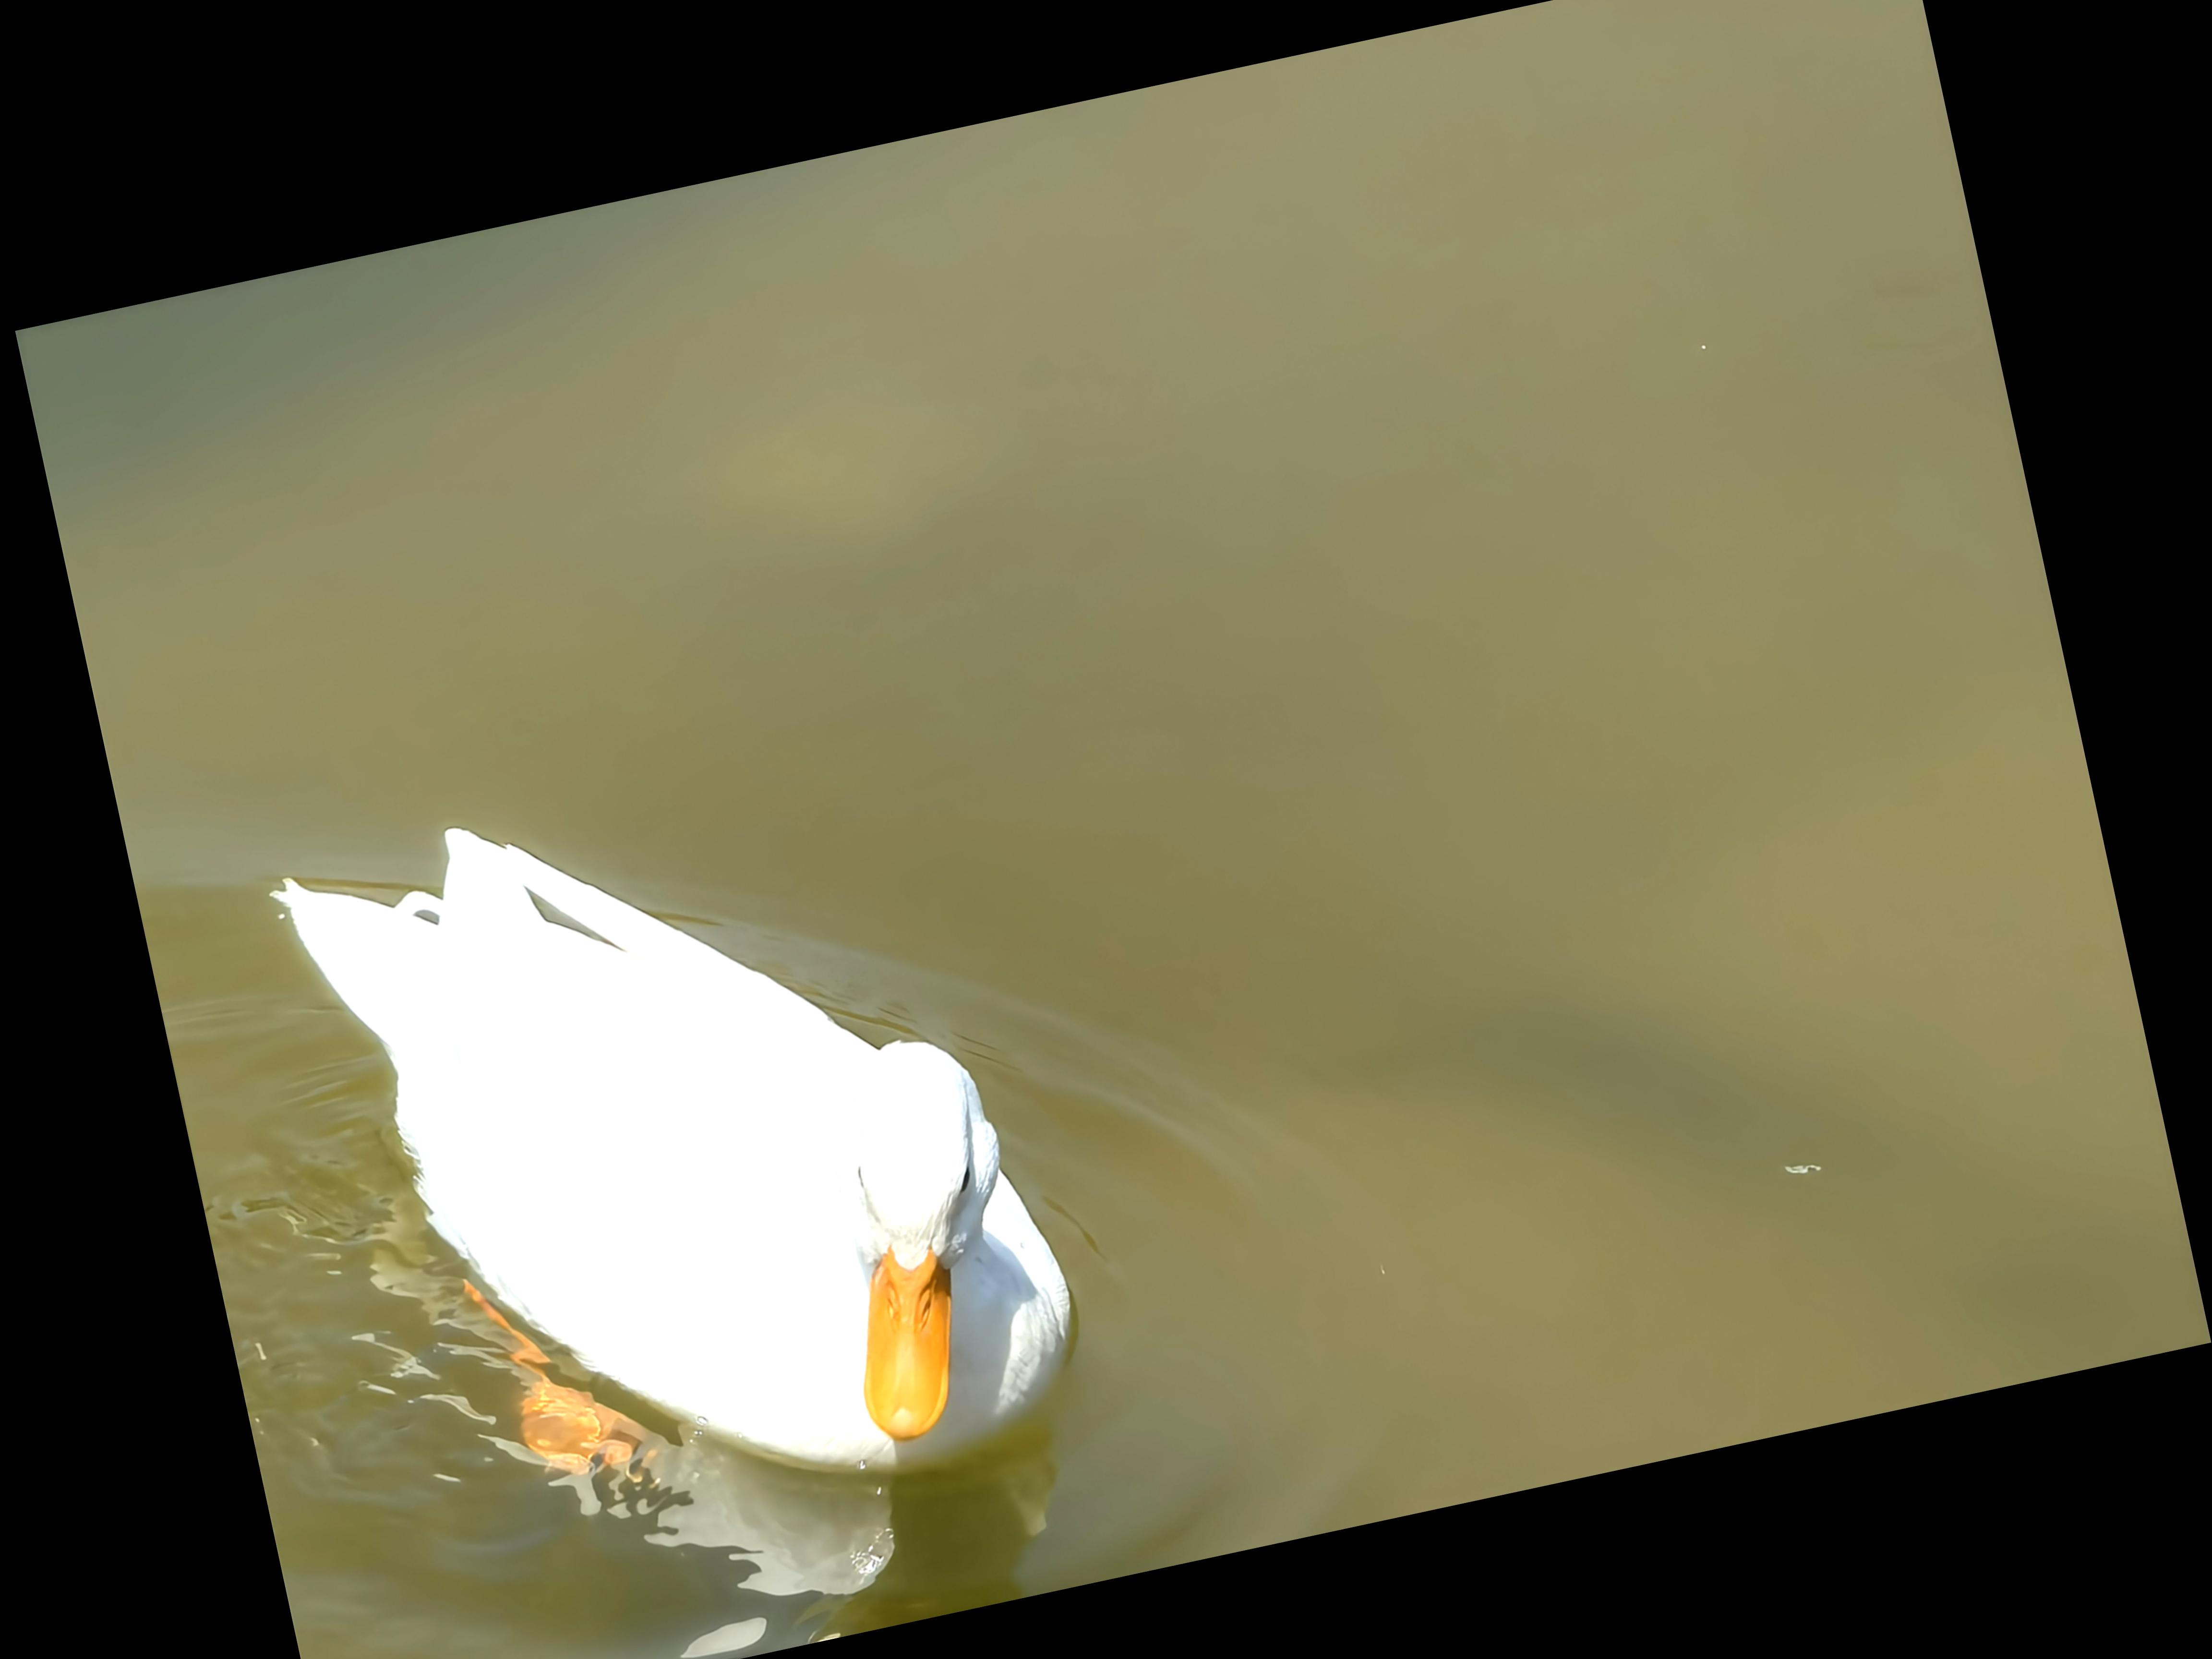duck: (225, 690, 1153, 1624)
